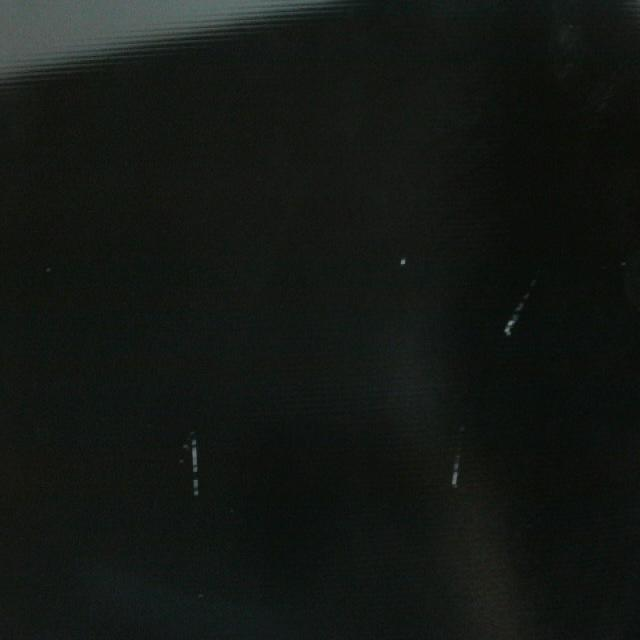scratch: (501, 266, 540, 346), (182, 420, 206, 503), (445, 417, 467, 495)
very small scratch: (393, 247, 412, 278)
